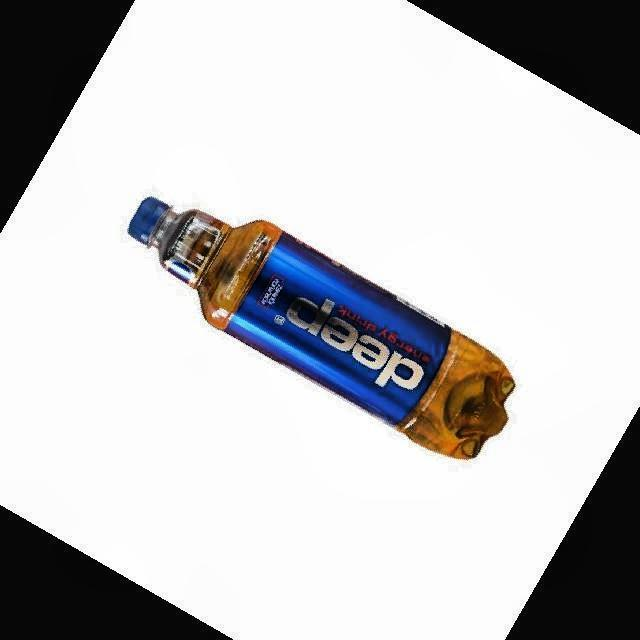plastic: (129, 199, 515, 458)
